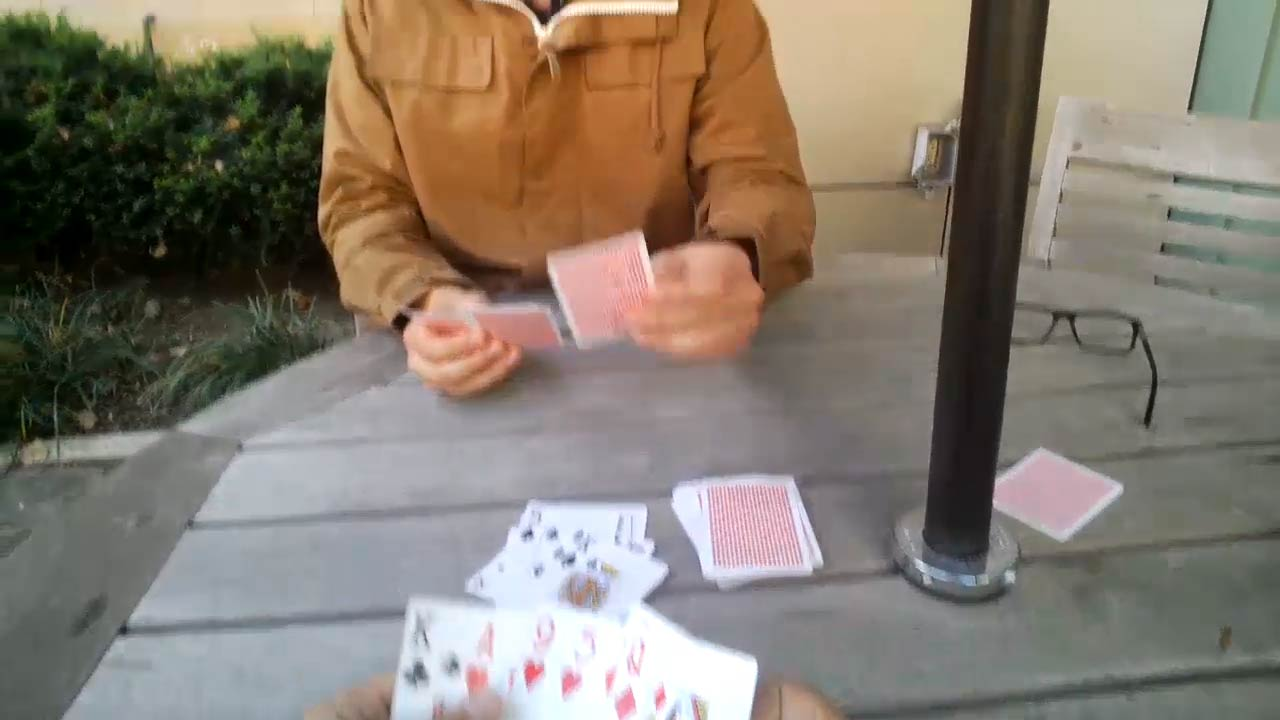hand: (631, 239, 759, 355), (409, 316, 524, 399), (303, 673, 505, 718), (751, 673, 848, 718)
